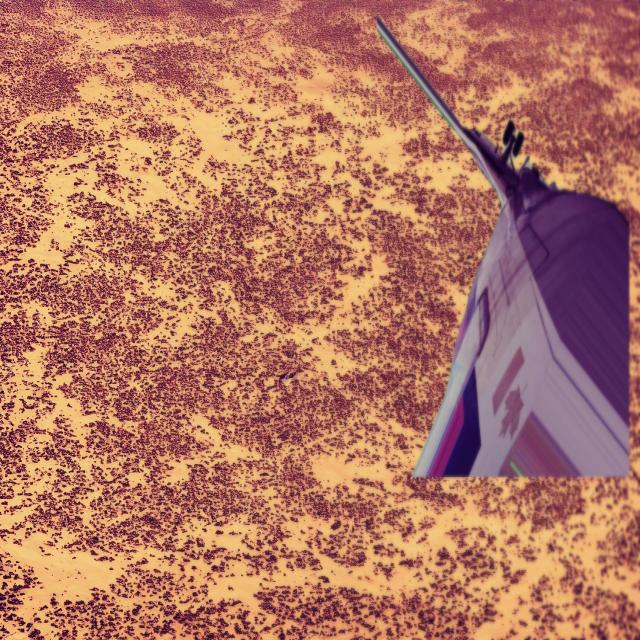airplane: (375, 13, 631, 480)
